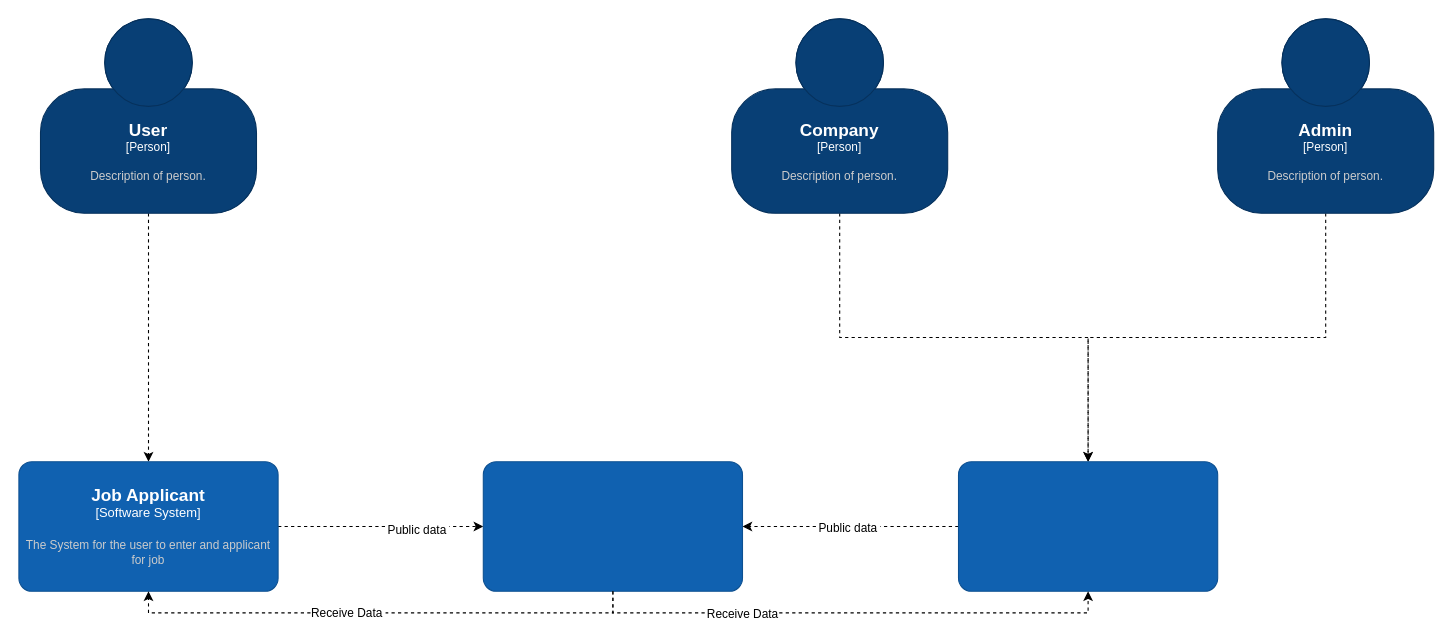
This 1453x640 diagram has some shape labels left out. The shapes that lost their labels are listed below. From the top down, each one's box as (x1, y1, x2, y2) in pixels, then its label:
(482, 461, 742, 591): API Gateway [Software System] Description of software system.
(957, 461, 1218, 591): Job Manager [Software System] For manager the job applicant system
